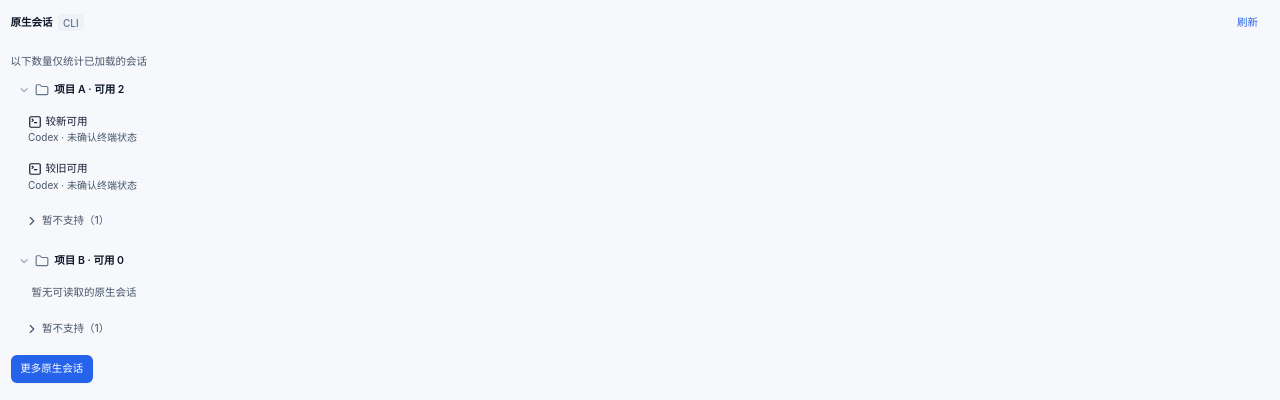
Test case: native format availability remote=false › deduplicates overlapping index pages before computing counts and ordering
Click the button "更多原生会话": x=52, y=369 [10,355,93,383]
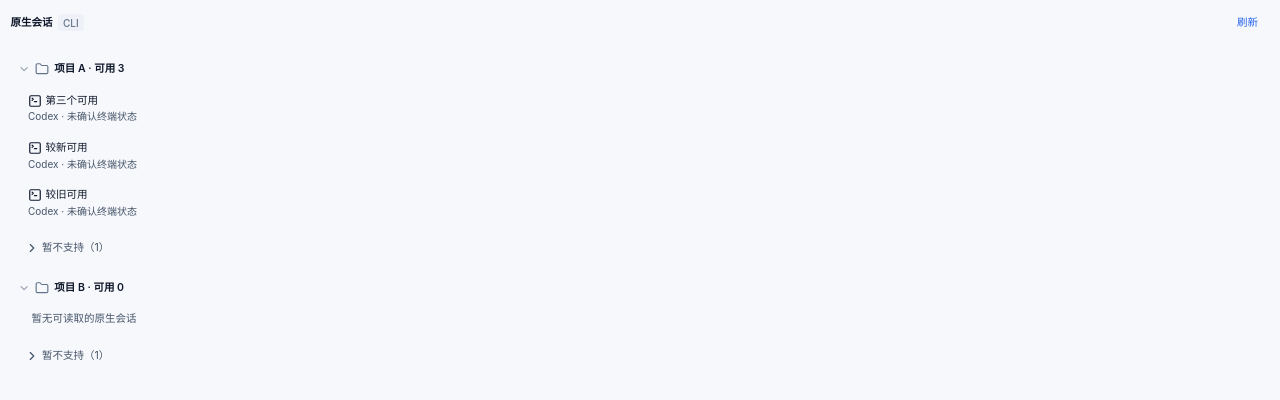
Expected: the button with test id "native-unavailable-toggle" reads "暂不支持（1）", [18,229,1270,267]
Now the heading "项目 A · 可用 3" is shown, box [54,62,125,76]
Now the button with test id "native-readable" shows "第三个可用", box [18,86,1270,130]
